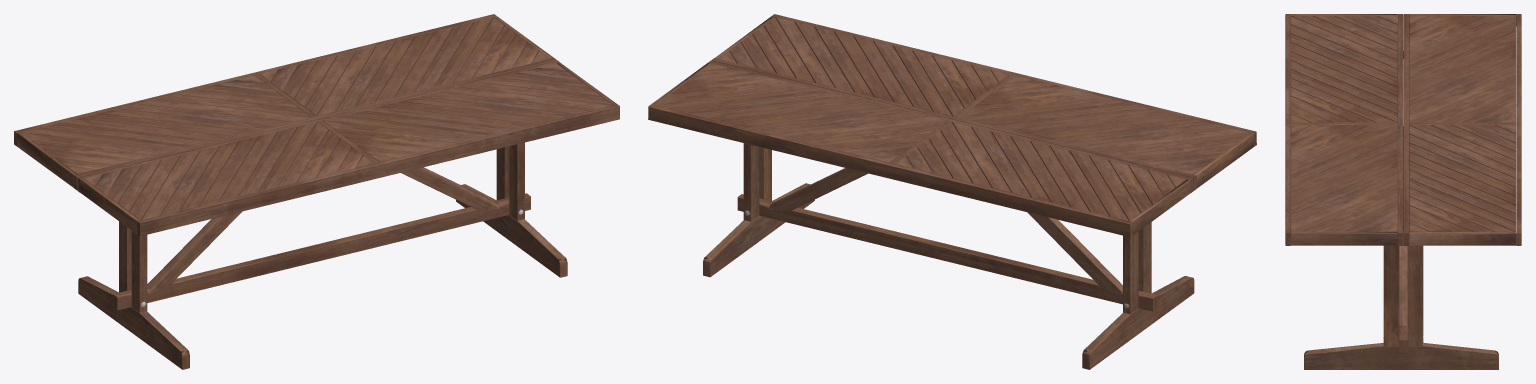
File: norrmanso_sto_ogrodowy_30500794.glb
3 views of the same model, side by side, from view 1: azimuth 30°, elevation 25°; view 2: azimuth 150°, elevation 25°; view 3: azimuth 270°, elevation 25° (orthographic). The views are drawn at different scales.
Parts seen in each view (by area): view 1: norrmanso_sto_ogrodowy_30500794; view 2: norrmanso_sto_ogrodowy_30500794; view 3: norrmanso_sto_ogrodowy_30500794.
Part boxes in pixels (x1,y1,x2,y2): norrmanso_sto_ogrodowy_30500794: (14, 14, 619, 369); norrmanso_sto_ogrodowy_30500794: (648, 14, 1256, 369); norrmanso_sto_ogrodowy_30500794: (1285, 14, 1521, 369).
Bounding box in the file's own units: 2.2 × 0.73 × 1.
1 material, 1 textured.
